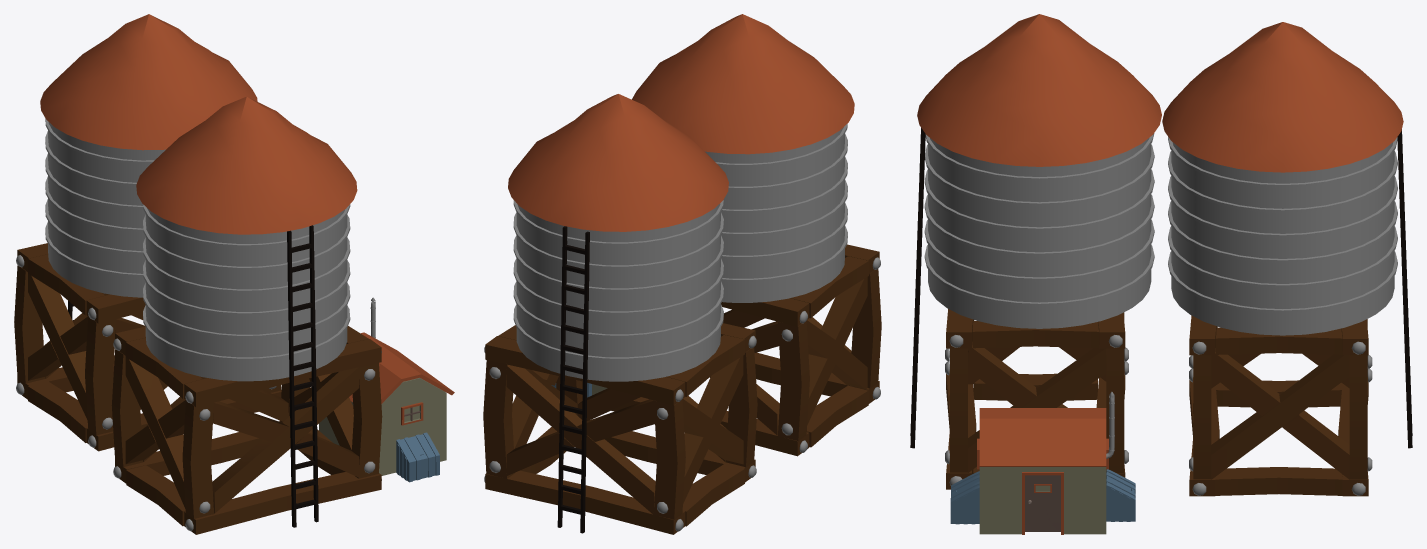
File: Silos_low_poly (1).fbx
3 views of the same model, side by side, from view 1: azimuth 30°, elevation 25°; view 2: azimuth 150°, elevation 25°; view 3: azimuth 270°, elevation 25° (orthographic). The views are drawn at different scales.
Parts seen in each view (by area): view 1: Cube.004, Torus.001; view 2: Cube.004, Cube.002; view 3: Cube.004, Torus.001, Cube.002, Torus.002.
Boxes of the visible parts, box(x1,y1,x2,y2) form: Cube.004: box(14, 14, 382, 534); Torus.001: box(319, 297, 454, 482); Cube.004: box(483, 14, 881, 534); Cube.002: box(557, 226, 589, 533); Cube.004: box(910, 14, 1403, 496); Torus.001: box(950, 391, 1114, 534); Cube.002: box(1397, 129, 1412, 448); Torus.002: box(1106, 469, 1135, 521).
Size of the model in its own units: 1067 by 1416 by 1508.
